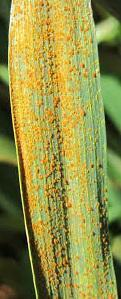Wheat: (20, 103, 103, 293), (18, 3, 91, 99)
